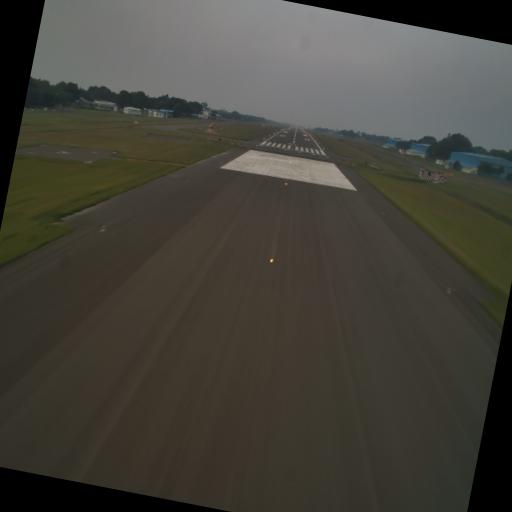off: (98, 222, 109, 236), (445, 284, 455, 298), (382, 210, 388, 218), (185, 176, 190, 184)
on: (269, 256, 276, 266), (284, 180, 289, 187), (288, 160, 292, 166)
